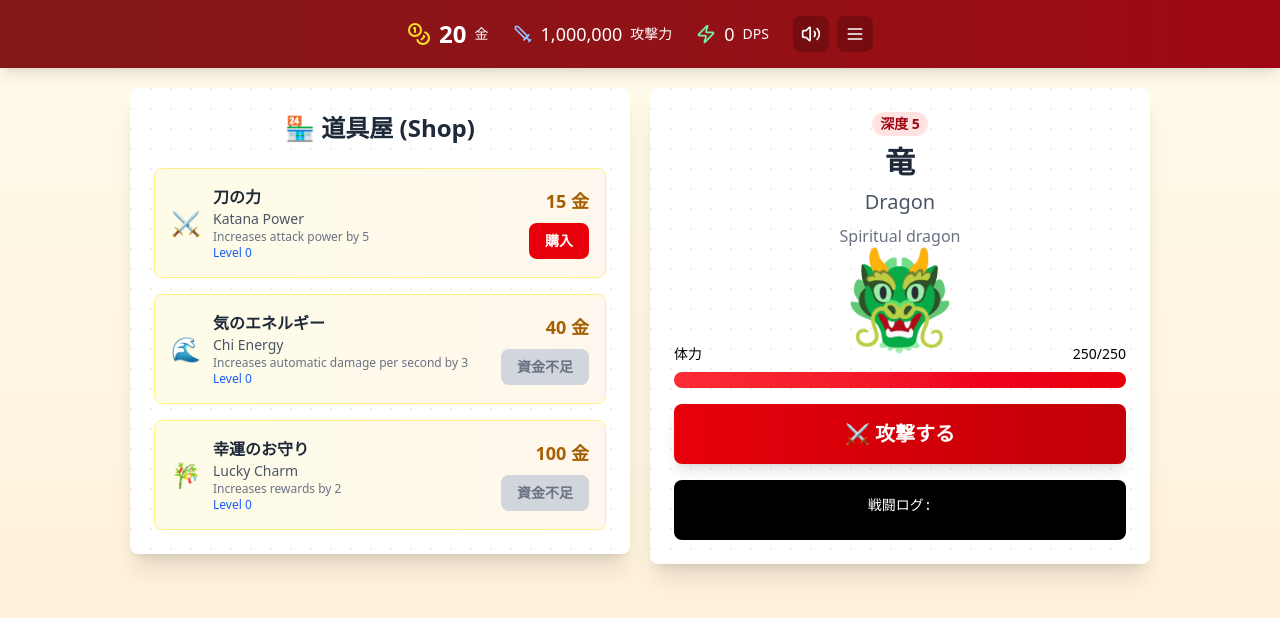
kill burst › bursts on the killing blow
Click the button "⚔️ 攻撃する".
click(900, 434)  # box [674,404,1126,464]
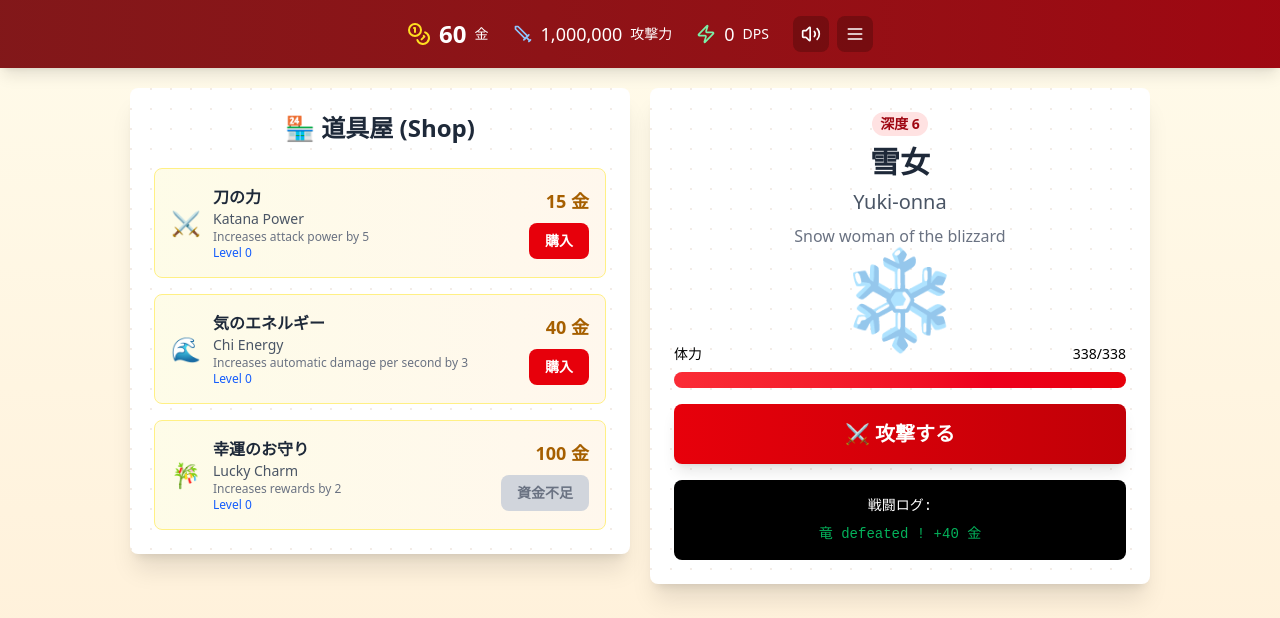
Expected: the element with test id "kill-burst" is shown, [674,248,1126,344]
